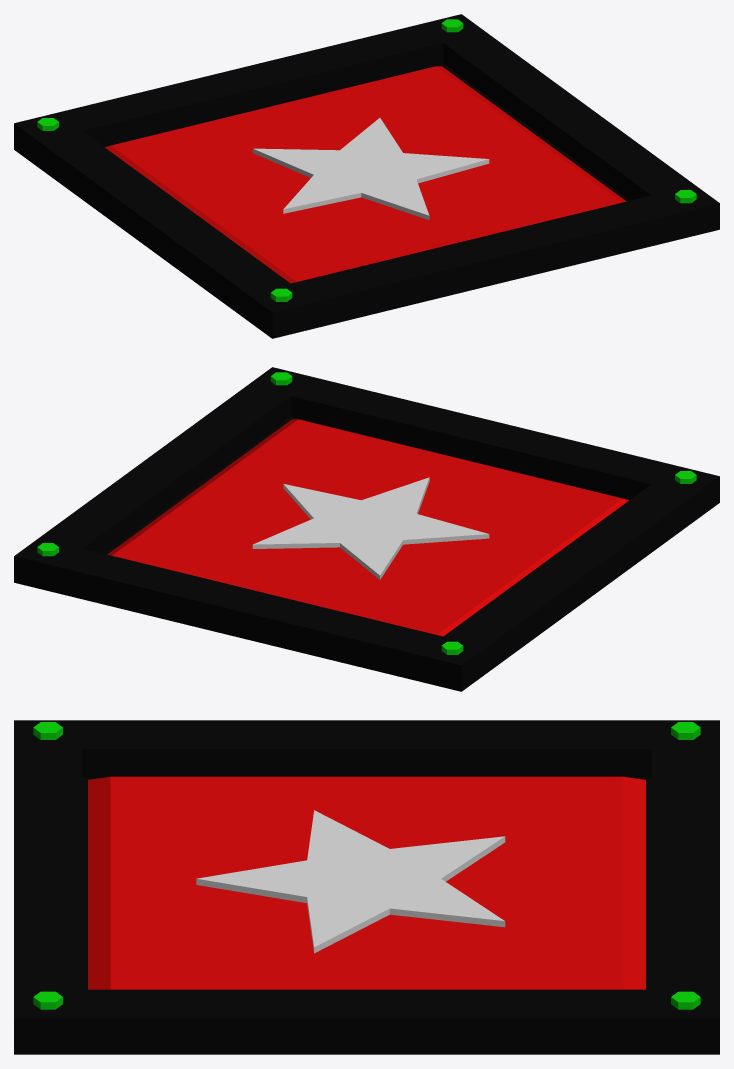
File: SM_TN_PlacaPresion_Bajada.fbx
3 views of the same model, one above another, from view 1: azimuth 30°, elevation 25°; view 2: azimuth 150°, elevation 25°; view 3: azimuth 270°, elevation 25° (orthographic). The views are drawn at different scales.
Visible parts, largest first — view 1: SM_TN_PlacaPresion_Bajada; view 2: SM_TN_PlacaPresion_Bajada; view 3: SM_TN_PlacaPresion_Bajada.
Part boxes in pixels (left/top/right/bottom): SM_TN_PlacaPresion_Bajada: left=14, top=14, right=719, bottom=338; SM_TN_PlacaPresion_Bajada: left=14, top=367, right=719, bottom=691; SM_TN_PlacaPresion_Bajada: left=14, top=720, right=719, bottom=1054.
Size of what is drawn, in the model's own units: 124 by 8.4 by 124.
